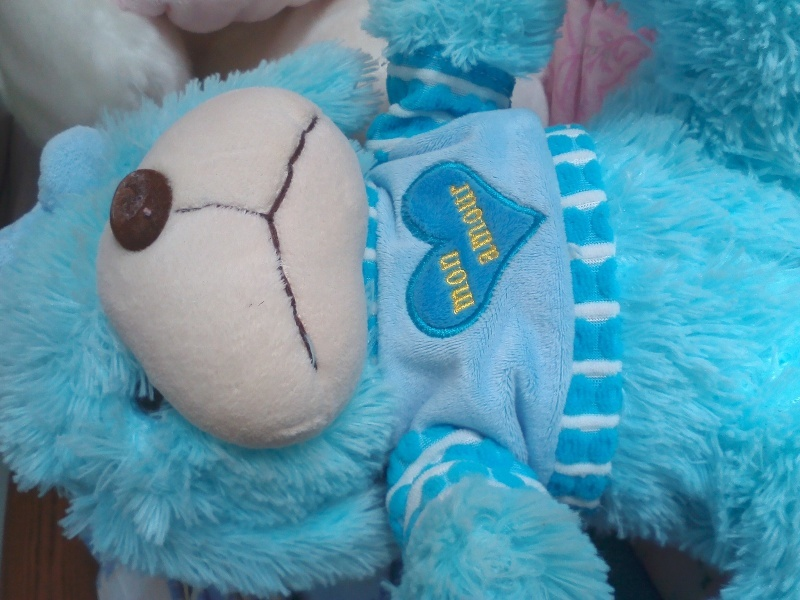text: (481, 175, 496, 270), (469, 175, 480, 270), (449, 249, 464, 317), (435, 249, 448, 317), (465, 249, 477, 317), (497, 175, 502, 270)
